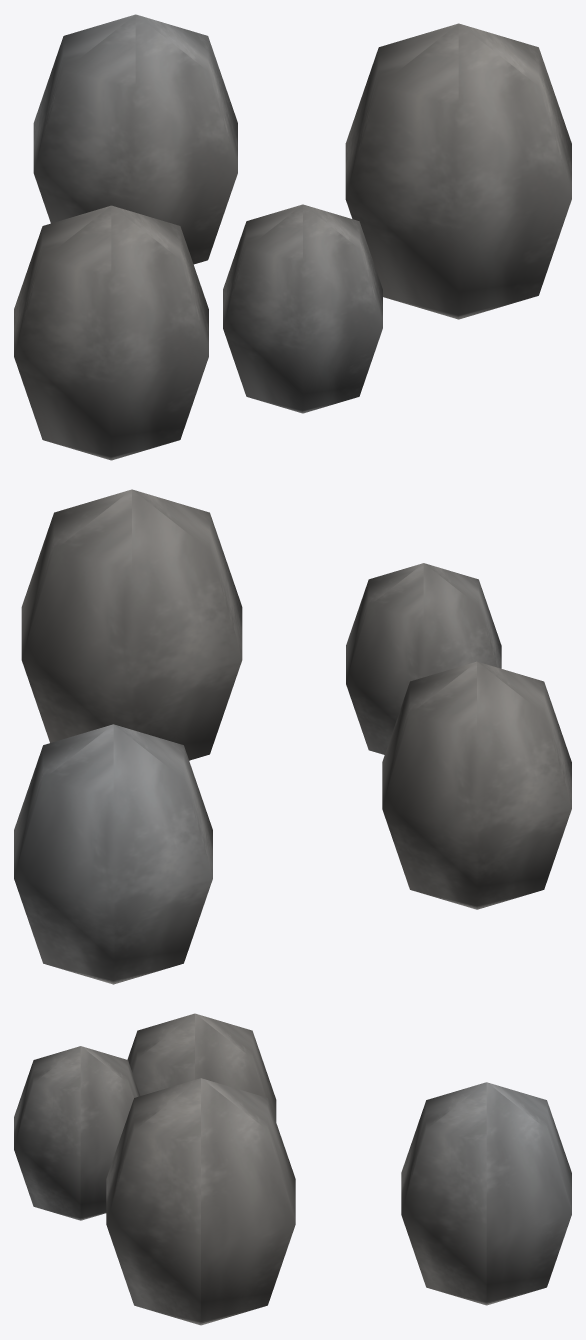
The model's file is bulb_tree_l2.gltf.
3 renders of one model, top to bottom at view 1: azimuth 30°, elevation 25°; view 2: azimuth 150°, elevation 25°; view 3: azimuth 270°, elevation 25°, orthographic. The views are drawn at different scales.
Parts seen in each view (by area): view 1: bulb_tree_l2; view 2: bulb_tree_l2; view 3: bulb_tree_l2.
Part boxes in pixels (x1,y1,x2,y2): bulb_tree_l2: [14, 14, 571, 460]; bulb_tree_l2: [14, 489, 571, 984]; bulb_tree_l2: [14, 1013, 571, 1325].
Size of the model in its own units: 1.85 by 1.1 by 1.91.
1 material, 1 textured.
